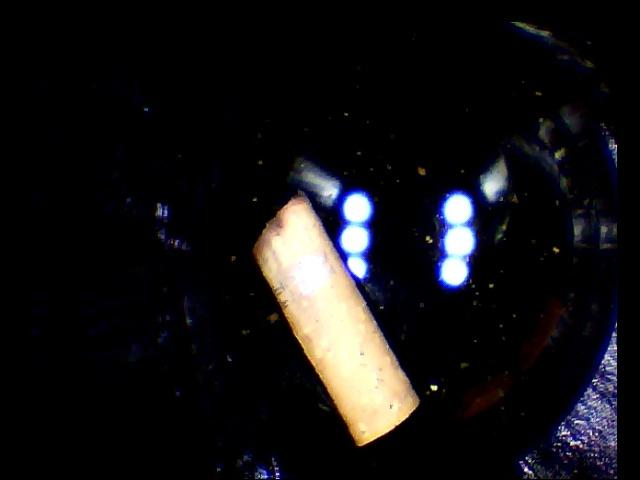megot: (240, 184, 432, 452)
